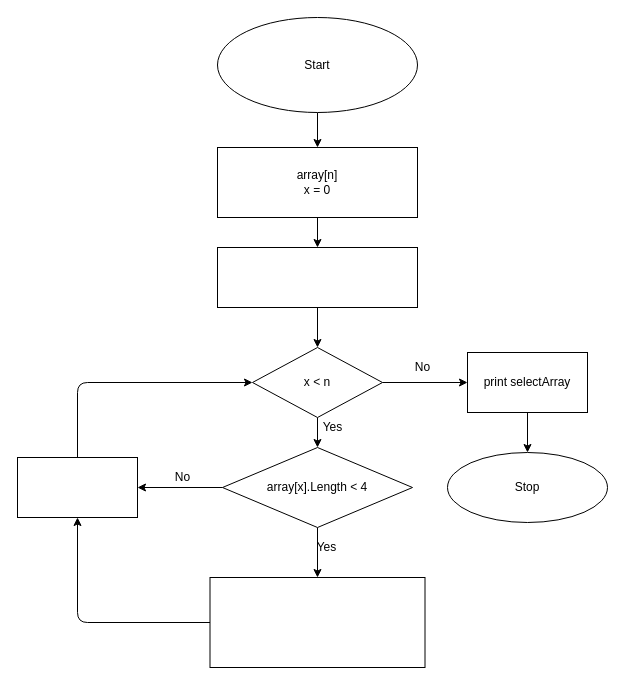
This 625x685 diagram has some shape labels left out. The shapes that lost their labels are listed below. From the top down, each one's box as (x1, y1, x2, y2) in pixels, then its label:
(216, 246, 418, 308): Create selectArray[0] i = 0
(16, 456, 138, 518): x = x + 1
(209, 576, 425, 668): Array.Resize(selectArray , i + 1) selectArray [i] = array[x] i = i + 1
